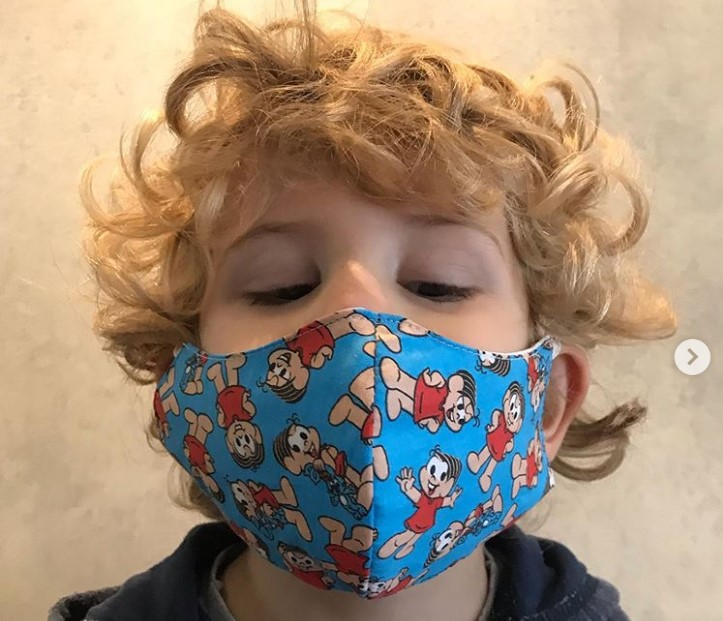face_with_mask: (154, 75, 583, 610)
